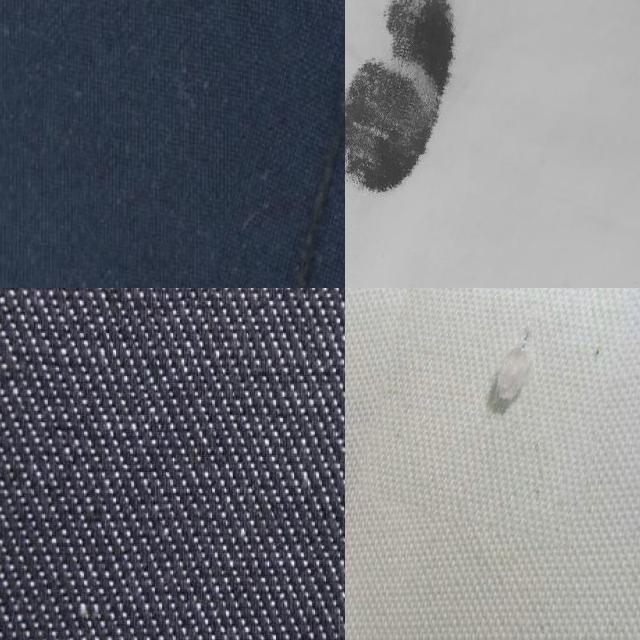Thread_other: (345, 0, 640, 288), (345, 0, 522, 281)
stains: (369, 288, 621, 538), (194, 11, 345, 288)
